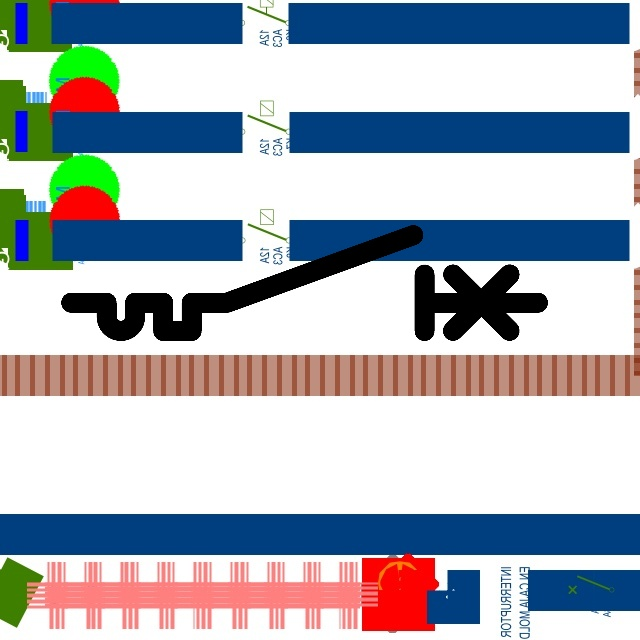interruptor_termomagnetico: (59, 223, 550, 343)
